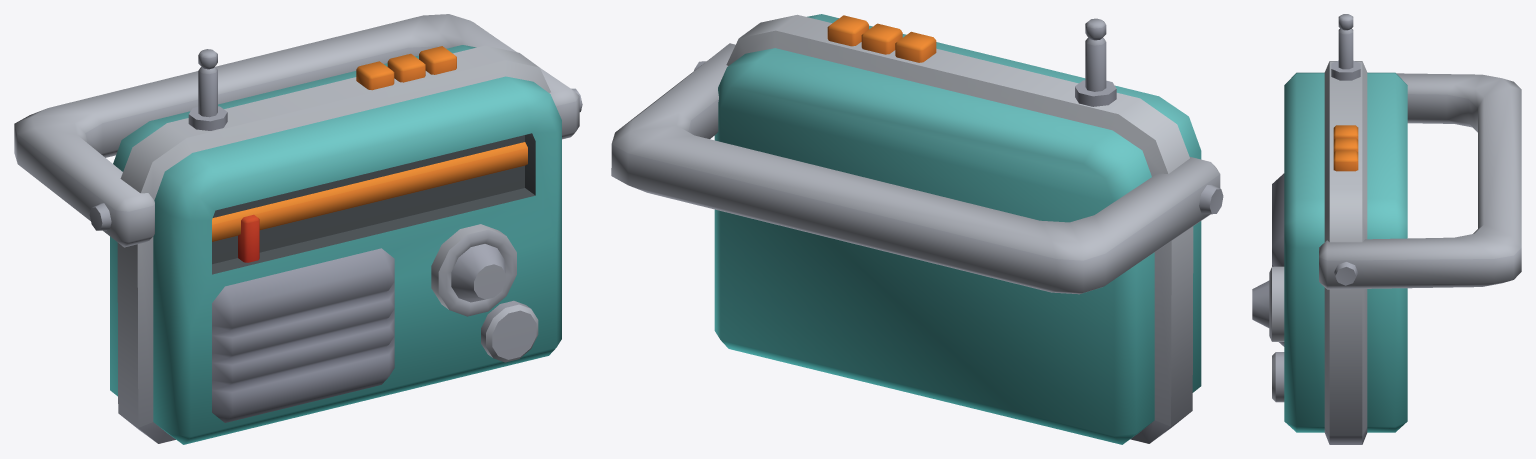
File: radio-C0nlGqrF.glb
3 views of the same model, side by side, from view 1: azimuth 30°, elevation 25°; view 2: azimuth 150°, elevation 25°; view 3: azimuth 270°, elevation 25° (orthographic). The views are drawn at different scales.
Visible parts, largest first — view 1: radio, radio_handle; view 2: radio, radio_handle; view 3: radio, radio_handle.
Boxes of the visible parts, bbox=[...] form: radio: bbox=[110, 45, 561, 444]; radio_handle: bbox=[14, 14, 582, 247]; radio: bbox=[714, 14, 1201, 444]; radio_handle: bbox=[611, 43, 1223, 294]; radio: bbox=[1252, 14, 1407, 444]; radio_handle: bbox=[1319, 73, 1521, 289].
Size of the model in its own units: 1.1 by 0.8131 by 0.6555.
1 material, 1 textured.
